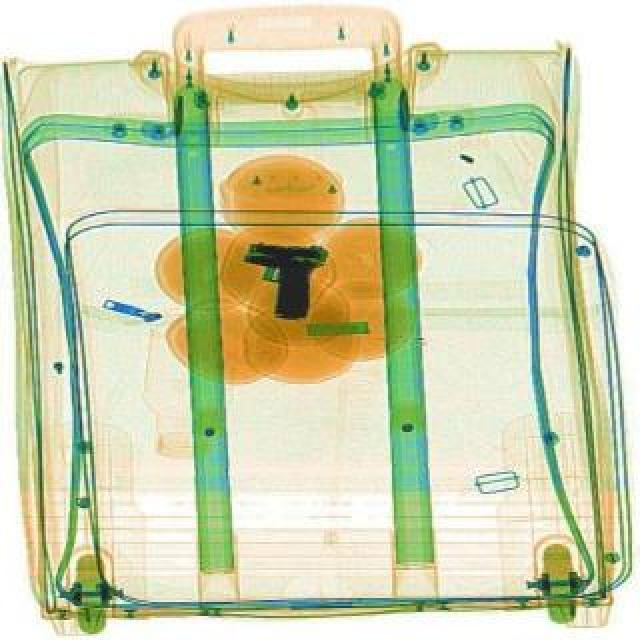gun: (234, 236, 328, 322)
